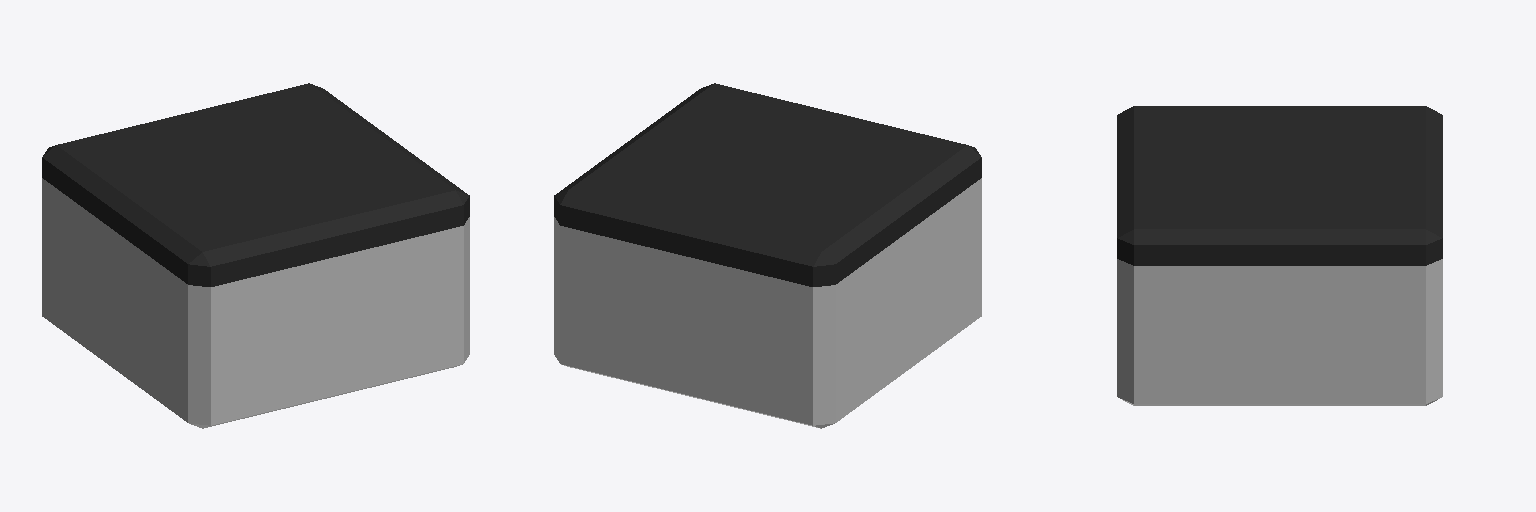
File: 07_Camera.obj
3 renders of one model, left to right at view 1: azimuth 30°, elevation 25°; view 2: azimuth 150°, elevation 25°; view 3: azimuth 270°, elevation 25°, orthographic.
Parts seen in each view (by area): view 1: Cube, Cube.001; view 2: Cube, Cube.001; view 3: Cube.001, Cube.
Boxes of the visible parts, x1,y1,x2,y2 form: Cube: [42, 178, 469, 428]; Cube.001: [42, 83, 469, 286]; Cube: [554, 178, 981, 428]; Cube.001: [554, 83, 981, 286]; Cube.001: [1117, 106, 1442, 265]; Cube: [1117, 259, 1442, 405].
Bounding box in the file's own units: 2 × 1.2 × 2.